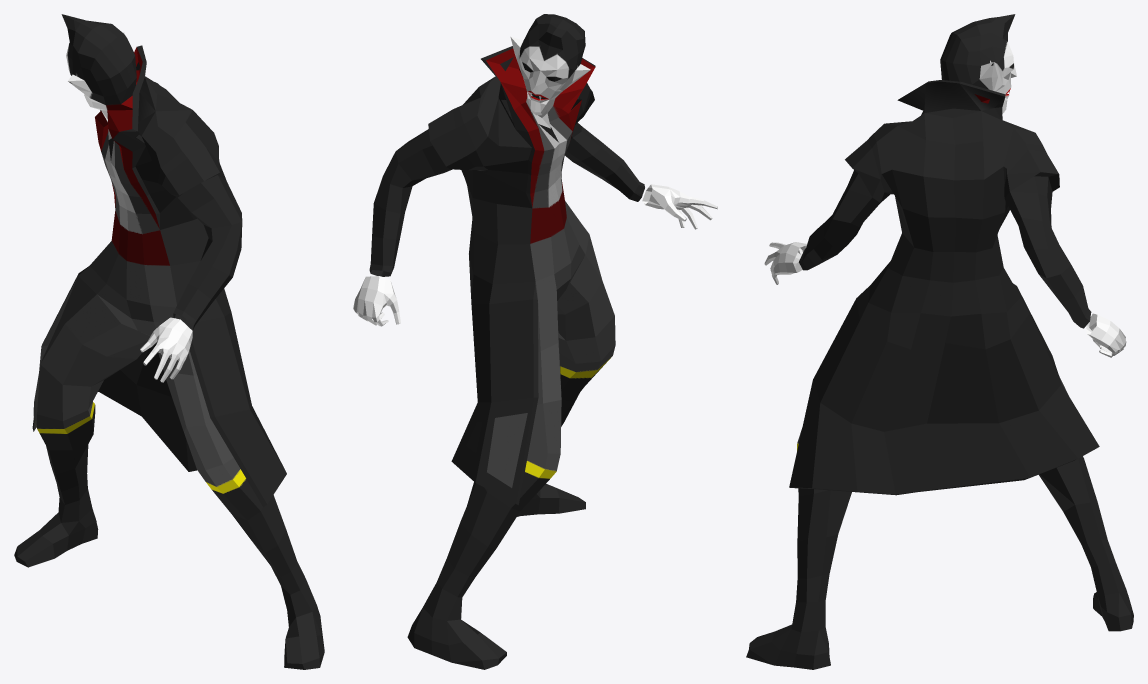
Rendered from VampireIdle(75).obj.
3 renders of one model, left to right at view 1: azimuth 30°, elevation 25°; view 2: azimuth 150°, elevation 25°; view 3: azimuth 270°, elevation 25°, orthographic. The views are drawn at different scales.
Parts seen in each view (by area): view 1: Plane002; view 2: Plane002; view 3: Plane002.
Part boxes in pixels (left/top/right/bottom): Plane002: left=14, top=14, right=324, bottom=669; Plane002: left=353, top=14, right=717, bottom=669; Plane002: left=746, top=14, right=1133, bottom=669.
Bounding box in the file's own units: 109 × 306 × 185.
